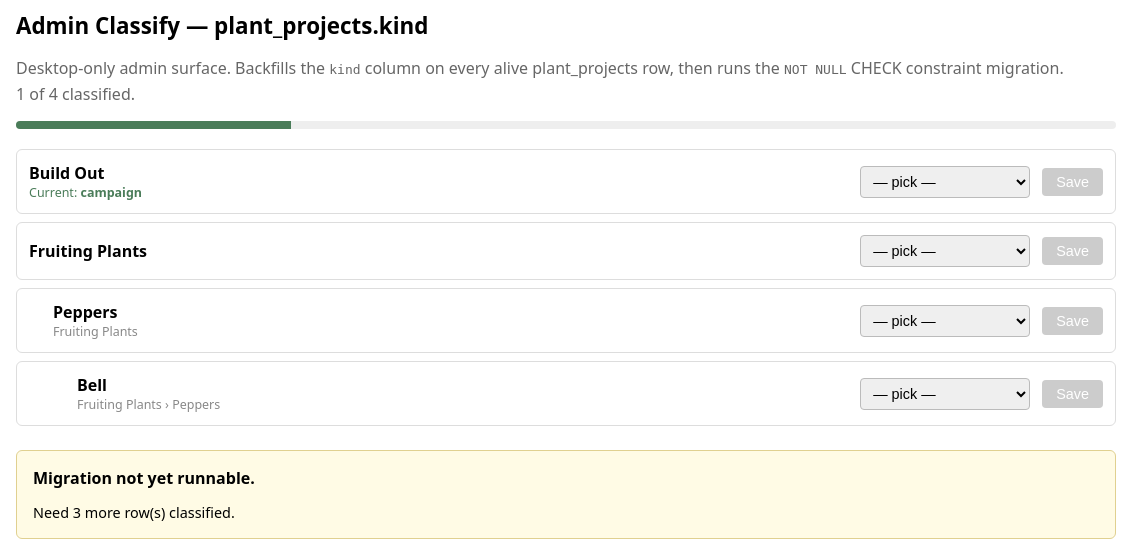
Test: ProjectsAdminClassify — crop type is required for cultivar (V4-INTAKE-001) › refuses to POST a cultivar with no crop type, and does not PATCH the kind either
The image size is (1133, 556).
expect the text "Bell" is shown: met, box top-left (77, 374), bottom-right (107, 396)
Select "Cultivar reference" in the dropdown named "kind for Bell" at [945, 394], box top-left (860, 378), bottom-right (1030, 410)
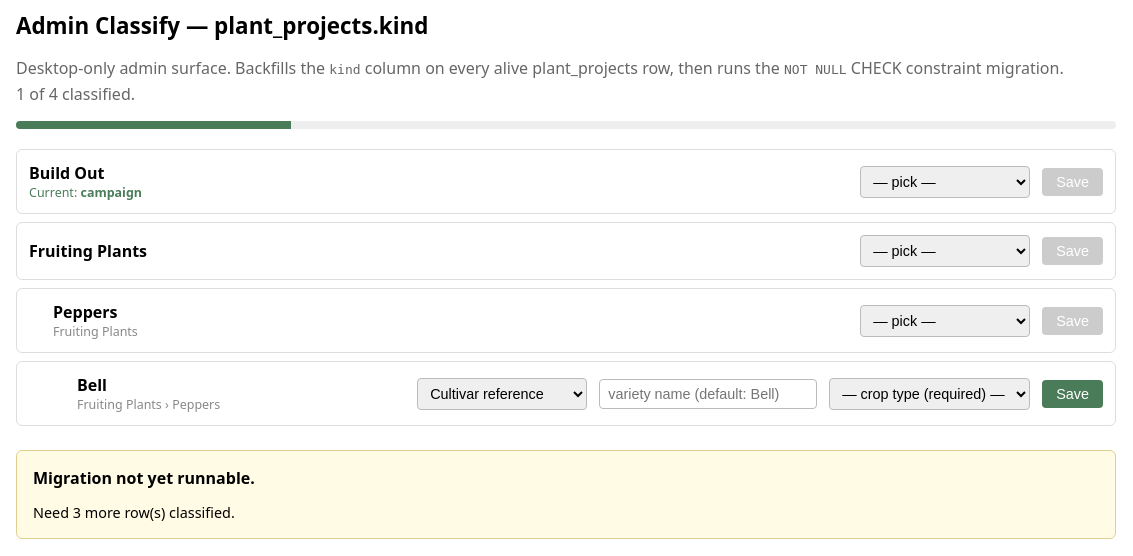
Click the button "Save" in the row of "Fruiting Plants › Peppers" at [1073, 394], box top-left (1042, 380), bottom-right (1103, 408)
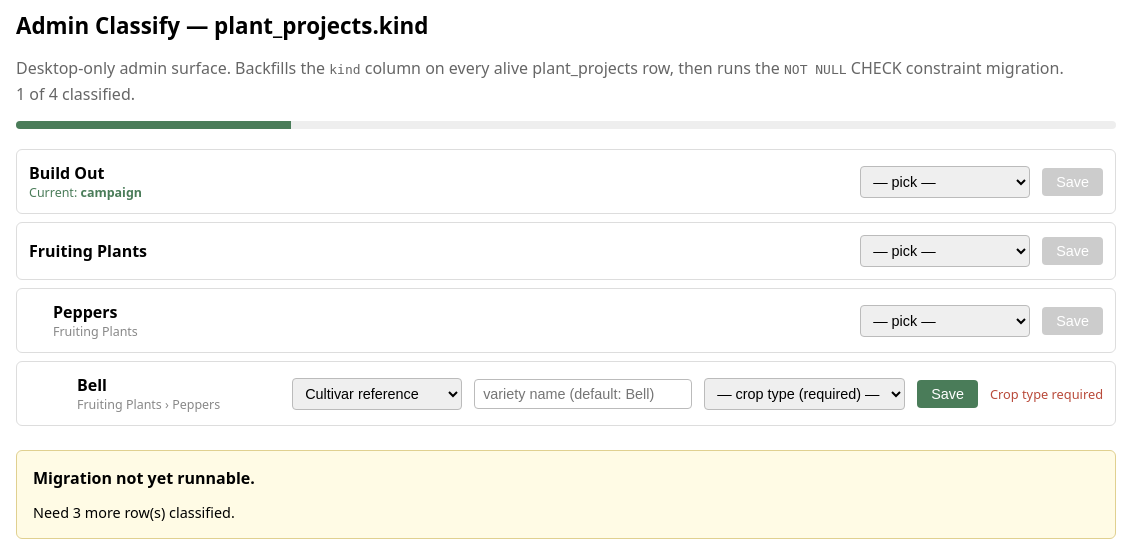
expect the message reads "Crop type required": met, box top-left (990, 384), bottom-right (1103, 402)
